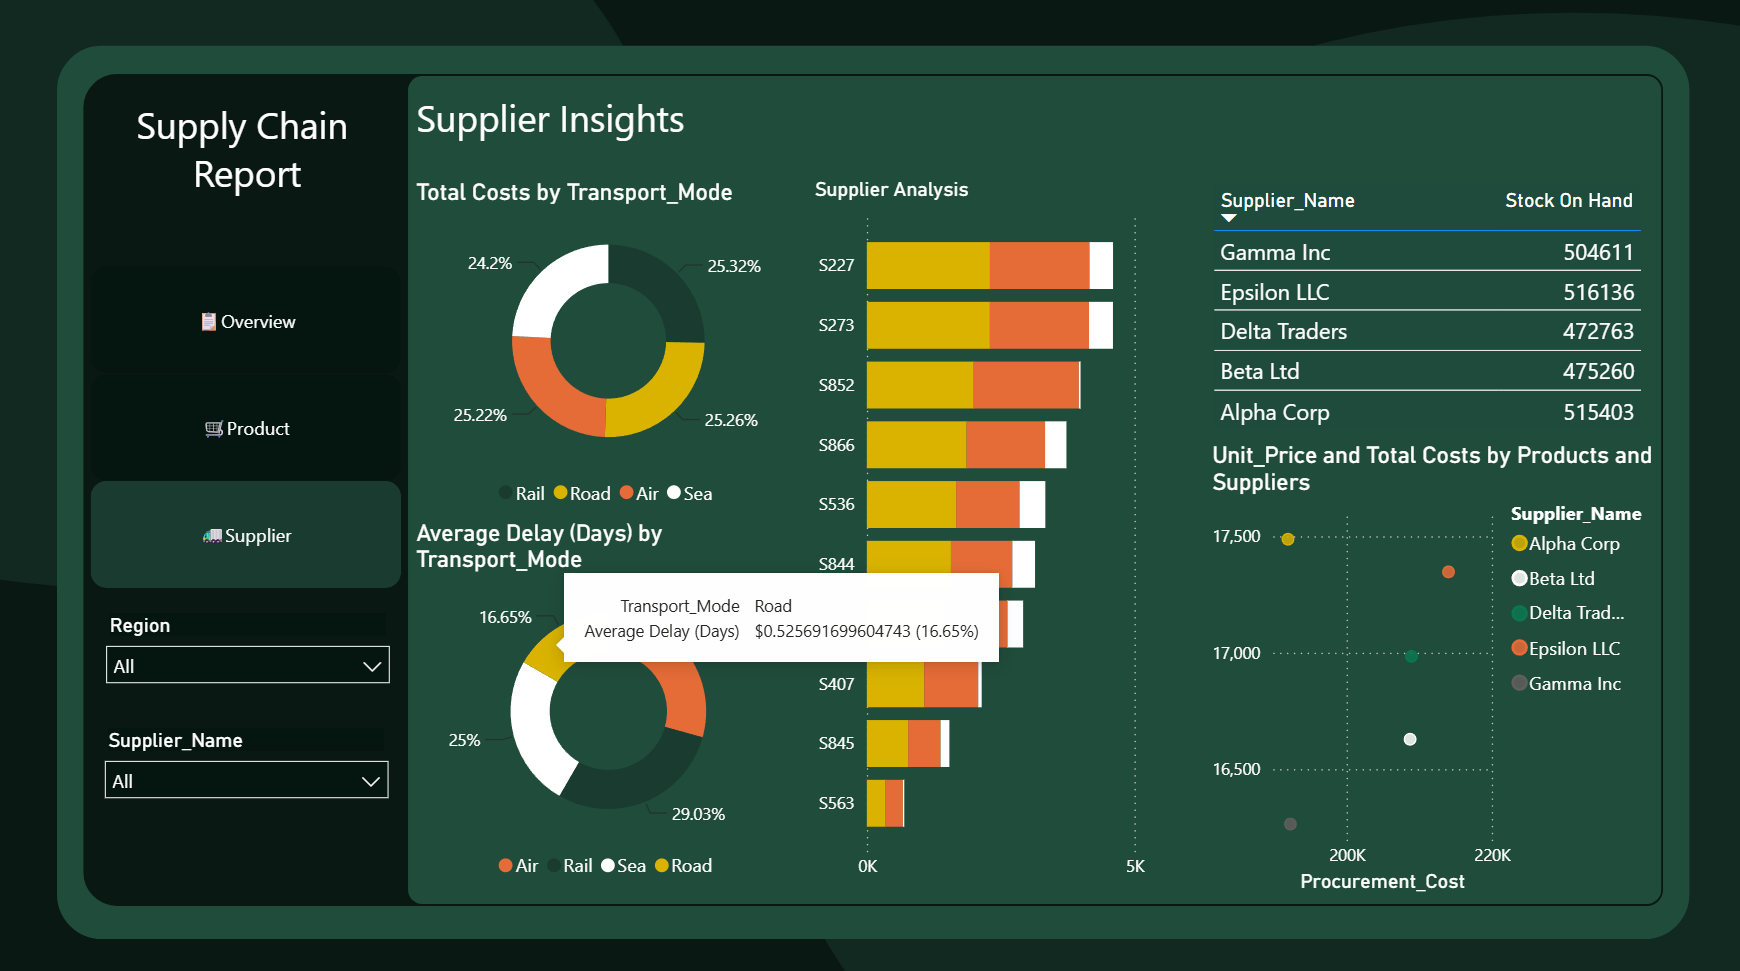

This screenshot's page, from the dashboard's own definition file:
{"tool":"powerbi","page":{"name":"🚛Supplier","canvas":[1280,720],"ordinal":2},"visuals":[{"type":"donutChart","fields":{"Y":["Measure.Total Costs"],"Category":["Supply Chain.Transport_Mode"]},"box":[303,132.7,290,248.2],"z":0},{"type":"donutChart","fields":{"Category":["Supply Chain.Transport_Mode"],"Y":["Measure.Average Delay (Days)"]},"box":[303,380.9,290,271.2],"z":1000},{"type":"barChart","title":"Supplier Analysis","fields":{"Category":["Supply Chain.Supplier_ID"],"Y":["Sum(Supply Chain.Total_Cost)","Sum(Supply Chain.Procurement_Cost)","Sum(Supply Chain.Transportation_Cost)"]},"box":[593,132.7,288.6,519.4],"z":2000},{"type":"tableEx","fields":{"Values":["Supply Chain.Supplier_Name","Supply Chain.Stock On Hand"]},"box":[881.5,132.7,330.4,191.9],"z":3000},{"type":"scatterChart","title":"Unit_Price and Total Costs by Products and Suppliers","fields":{"X":["Sum(Supply Chain.Procurement_Cost)"],"Y":["Sum(Supply Chain.Fill_Rate)"],"Series":["Supply Chain.Supplier_Name"]},"box":[881.5,324.6,330.4,333.3],"z":4000},{"type":"textbox","box":[303,66.4,255.4,66.4],"z":5000},{"type":"pageNavigator","box":[70.7,197.7,226.5,235.2],"z":6000},{"type":"slicer","fields":{"Values":["Supply Chain.Region"]},"box":[72.1,444.4,226.5,83.7],"z":7000},{"type":"slicer","fields":{"Values":["Supply Chain.Supplier_Name"]},"box":[70.7,528.1,226.5,82.2],"z":8000},{"type":"textbox","box":[70.7,70.7,228,127],"z":9000}]}

Visuals, with their boxes in screenshot pixels (x1, y1, x2, y2), scaled from the page's 1280x720 canvas onto the 1740x971 screenshot:
donutChart - Measure.Total Costs x Supply Chain.Transport_Mode: 412:179:806:514
donutChart - Supply Chain.Transport_Mode x Measure.Average Delay (Days): 412:514:806:879
"Supplier Analysis" barChart: 806:179:1198:879
tableEx - Supply Chain.Supplier_Name x Supply Chain.Stock On Hand: 1198:179:1647:438
"Unit_Price and Total Costs by Products and Suppliers" scatterChart: 1198:438:1647:887
textbox: 412:90:759:179
pageNavigator: 96:267:404:584
slicer - Supply Chain.Region: 98:599:406:712
slicer - Supply Chain.Supplier_Name: 96:712:404:823
textbox: 96:95:406:267
